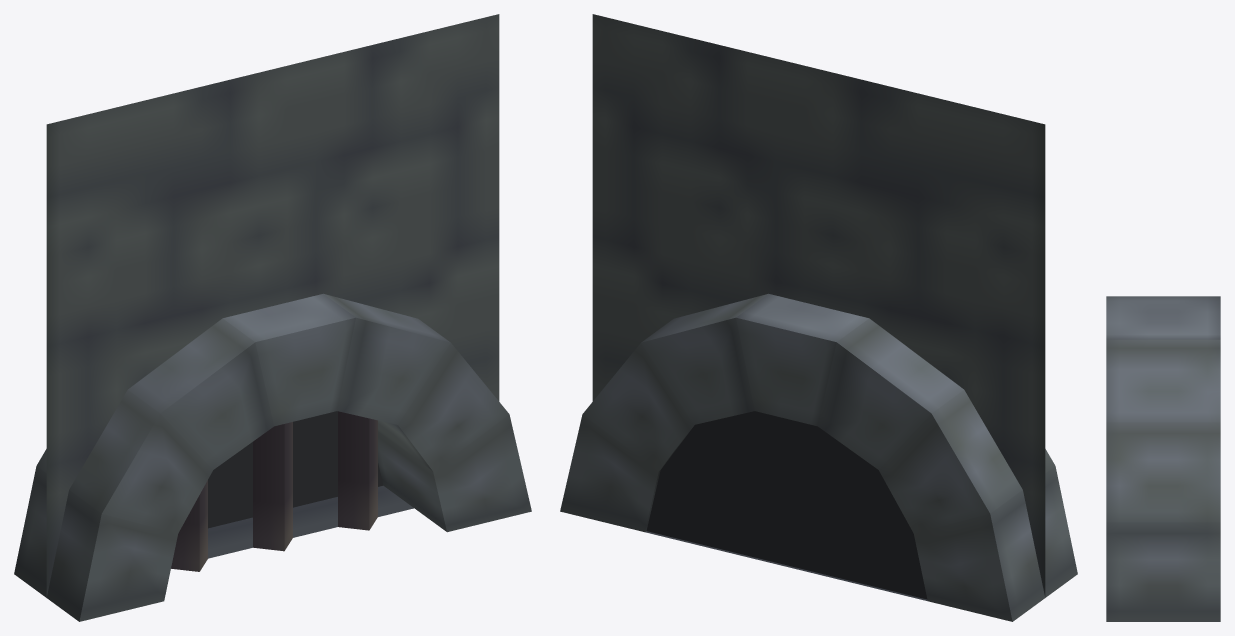
Rendered from wall_grate_01_blue.fbx.
The picture shows the model from 3 angles, left to right: view 1: azimuth 30°, elevation 25°; view 2: azimuth 150°, elevation 25°; view 3: azimuth 270°, elevation 25°; orthographic projection. The views are drawn at different scales.
Parts seen in each view (by area): view 1: wall_grate_01_blue; view 2: wall_grate_01_blue; view 3: wall_grate_01_blue.
Part boxes in pixels (x1,y1,x2,y2): wall_grate_01_blue: [14, 14, 531, 621]; wall_grate_01_blue: [560, 14, 1077, 621]; wall_grate_01_blue: [1106, 296, 1220, 621].
Bounding box in the file's own units: 16 × 16 × 4.
